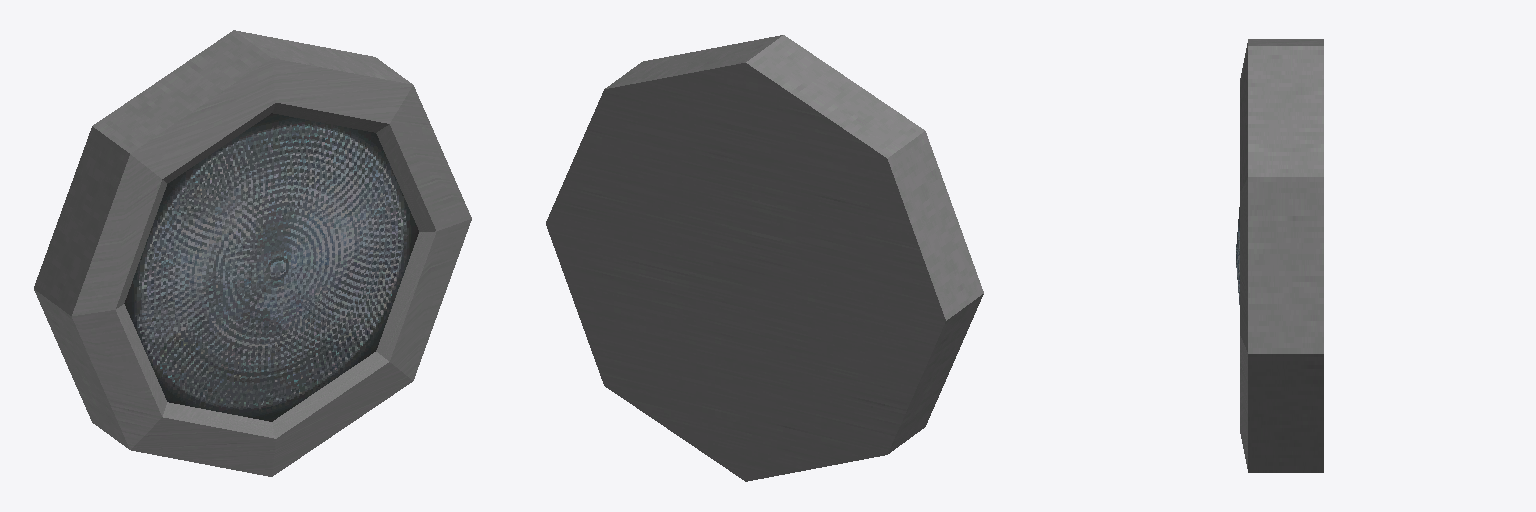
3 views of the same model, side by side, from view 1: azimuth 30°, elevation 25°; view 2: azimuth 150°, elevation 25°; view 3: azimuth 270°, elevation 25° (orthographic).
Visible parts, largest first — view 1: nt_2020_brushed_metal, mtl_nt_2020_light_recessed_off; view 2: nt_2020_brushed_metal; view 3: nt_2020_brushed_metal.
Boxes of the visible parts, <box> form: nt_2020_brushed_metal: <box>34,30,471,476</box>; mtl_nt_2020_light_recessed_off: <box>124,113,418,421</box>; nt_2020_brushed_metal: <box>546,35,983,481</box>; nt_2020_brushed_metal: <box>1240,39,1323,472</box>.
Size of the model in its own units: 25.6 by 25.6 by 4.92.
Materials: 2 (2 with a texture image).